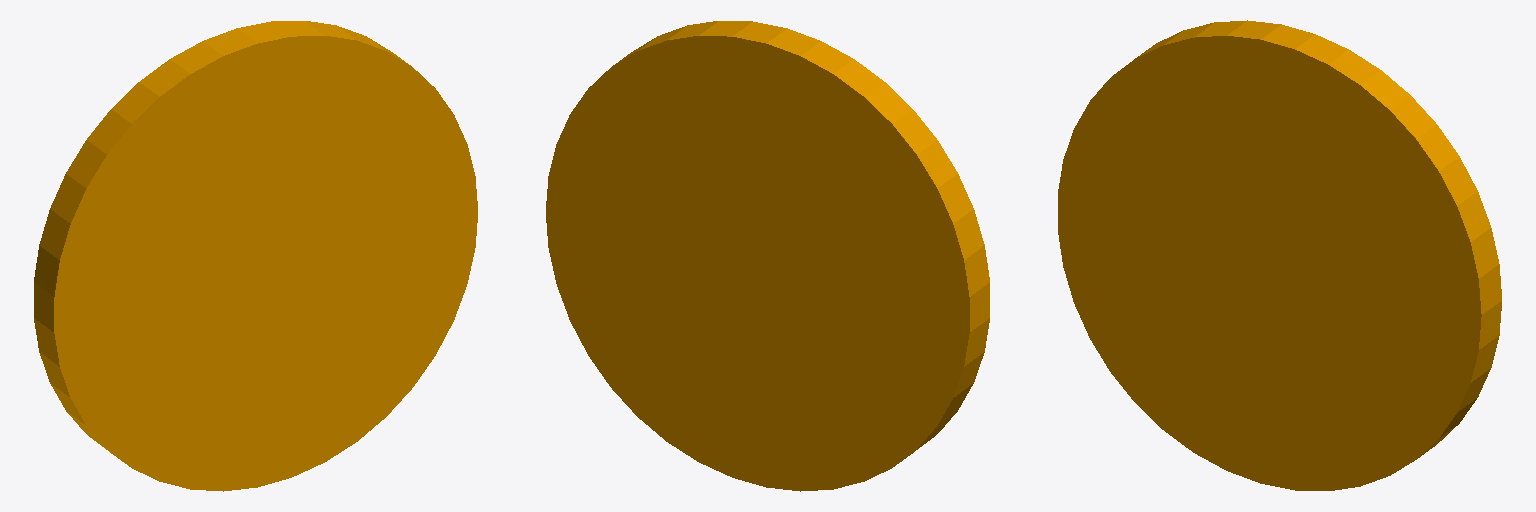
URDF robot description (dartboard.SLDPRT):
<?xml version="1.0" encoding="utf-8"?>
<!-- This URDF was automatically created by SolidWorks to URDF Exporter! Originally created by [author] ([email redacted]) 
     Commit Version: 1.5.1-0-g916b5db  Build Version: 1.5.7152.31018
     For more information, please see http://wiki.ros.org/sw_urdf_exporter -->
<robot
  name="dartboard.SLDPRT">
  <link
    name="dartboard">
    <inertial>
      <origin
        xyz="0 0.01905 -1.16643755201581E-18"
        rpy="0 0 0" />
      <mass
        value="6.0825" />
      <inertia
        ixx="0.078008"
        ixy="-3.5306E-20"
        ixz="-6.1846E-19"
        iyy="0.15454"
        iyz="-4.69600487353671E-18"
        izz="0.078008" />
    </inertial>
    <visual>
      <origin
        xyz="0 0 0"
        rpy="1.5707963267949 0 0" />
      <geometry>
        <mesh
          filename="dartboard.obj" />
      </geometry>
    </visual>
    <collision>
      <origin
        xyz="0 0 0"
        rpy="1.5707963267949 0 0" />
      <geometry>
        <mesh
          filename="dartboard.obj" />
      </geometry>
    </collision>
  </link>
</robot>

--- Render facts (derived) ---
Views: 3 orthographic renders of the robot side by side, from view 1: azimuth 30°, elevation 25°; view 2: azimuth 150°, elevation 25°; view 3: azimuth 330°, elevation 25°.
Model dartboard.SLDPRT with 1 links and 0 joints (none), rooted at dartboard, posed all joints at 0.
Visible links, largest first — view 1: dartboard; view 2: dartboard; view 3: dartboard.
Boxes of the visible links, bbox=[...] form: dartboard: bbox=[34, 21, 477, 491]; dartboard: bbox=[546, 21, 989, 491]; dartboard: bbox=[1058, 20, 1501, 490].
Bounding box of the posed robot: 0.4501 × 0.0381 × 0.4505 m (x, y, z).
1 mesh visuals loaded from 1 distinct referenced files (1 OBJ).